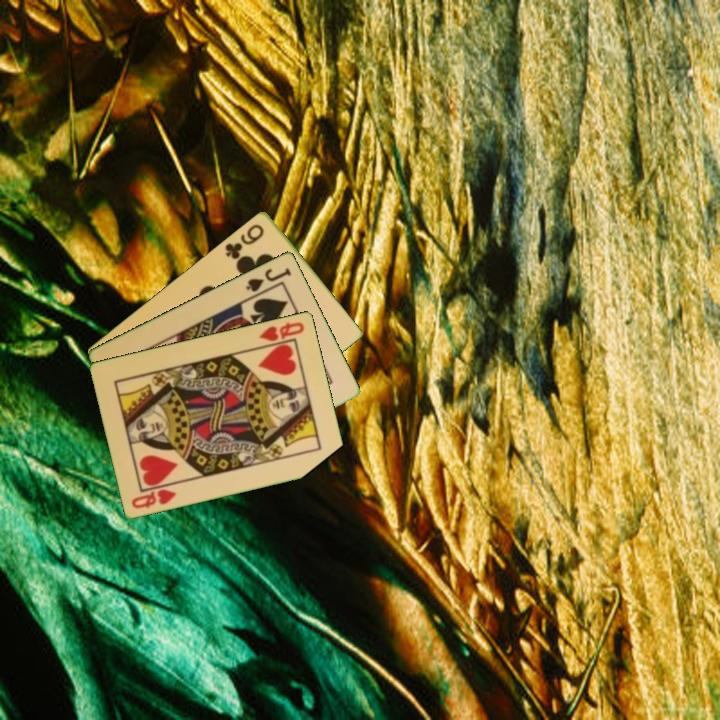9c: (221, 220, 267, 262)
Js: (242, 264, 294, 294)
Qh: (255, 318, 307, 344), (128, 485, 179, 511)
